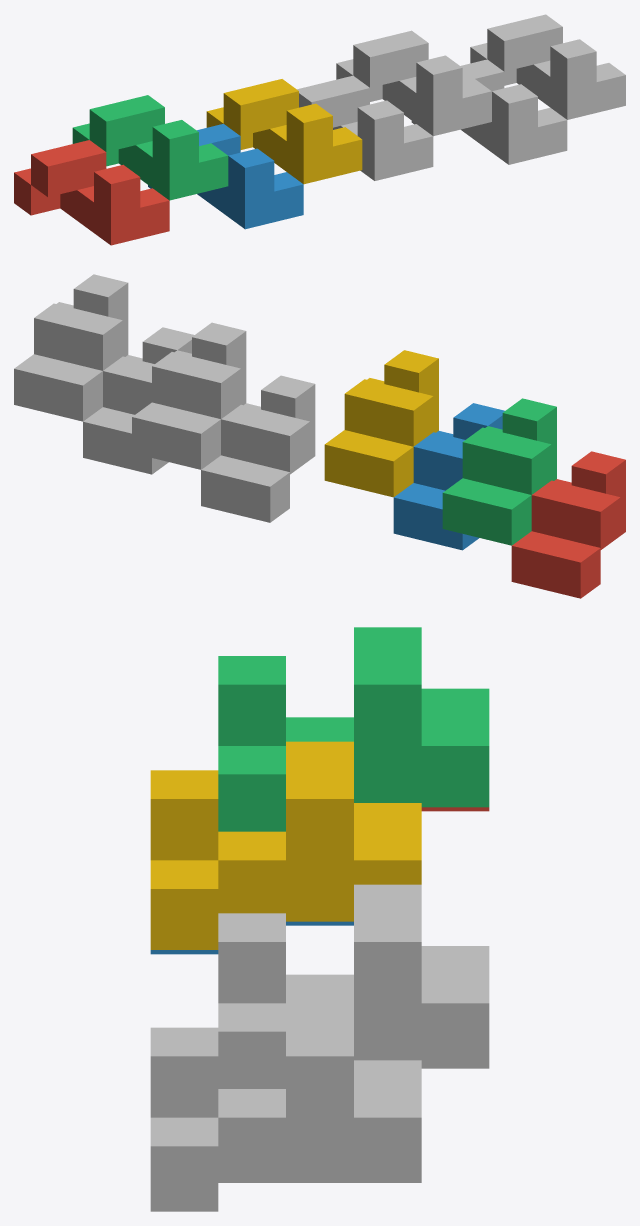
The model's file is tiling.obj.
3 renders of one model, top to bottom at view 1: azimuth 30°, elevation 25°; view 2: azimuth 150°, elevation 25°; view 3: azimuth 270°, elevation 25°, orthographic. The views are drawn at different scales.
Parts seen in each view (by area): view 1: copy_1_domain_1, copy_1_domain_4, copy_1_domain_3, copy_1_domain_8, copy_1_domain_7, copy_1_domain_5, copy_1_domain_6, copy_1_domain_2; view 2: copy_1_domain_1, copy_1_domain_5, copy_1_domain_3, copy_1_domain_4, copy_1_domain_8, copy_1_domain_7, copy_1_domain_2, copy_1_domain_6; view 3: copy_1_domain_8, copy_1_domain_4, copy_1_domain_7, copy_1_domain_3, copy_1_domain_6.
Part boxes in pixels (x1,y1,x2,y2): copy_1_domain_1: (14,140,169,245); copy_1_domain_4: (206,79,362,184); copy_1_domain_3: (72,95,228,200); copy_1_domain_8: (470,14,625,119); copy_1_domain_7: (336,30,491,136); copy_1_domain_5: (297,75,433,180); copy_1_domain_6: (411,59,567,164); copy_1_domain_2: (148,124,303,229); copy_1_domain_1: (511,451,625,598); copy_1_domain_5: (201,375,315,522); copy_1_domain_3: (442,398,556,545); copy_1_domain_4: (324,350,438,497); copy_1_domain_8: (14,274,128,421); copy_1_domain_7: (132,322,246,469); copy_1_domain_2: (393,403,504,550); copy_1_domain_6: (83,327,194,474); copy_1_domain_8: (150,999,421,1207); copy_1_domain_4: (150,741,421,949); copy_1_domain_7: (218,884,489,1088); copy_1_domain_3: (218,627,489,831); copy_1_domain_6: (150,1179,421,1211).
Bounding box in the file's own units: 18 × 3 × 5.
